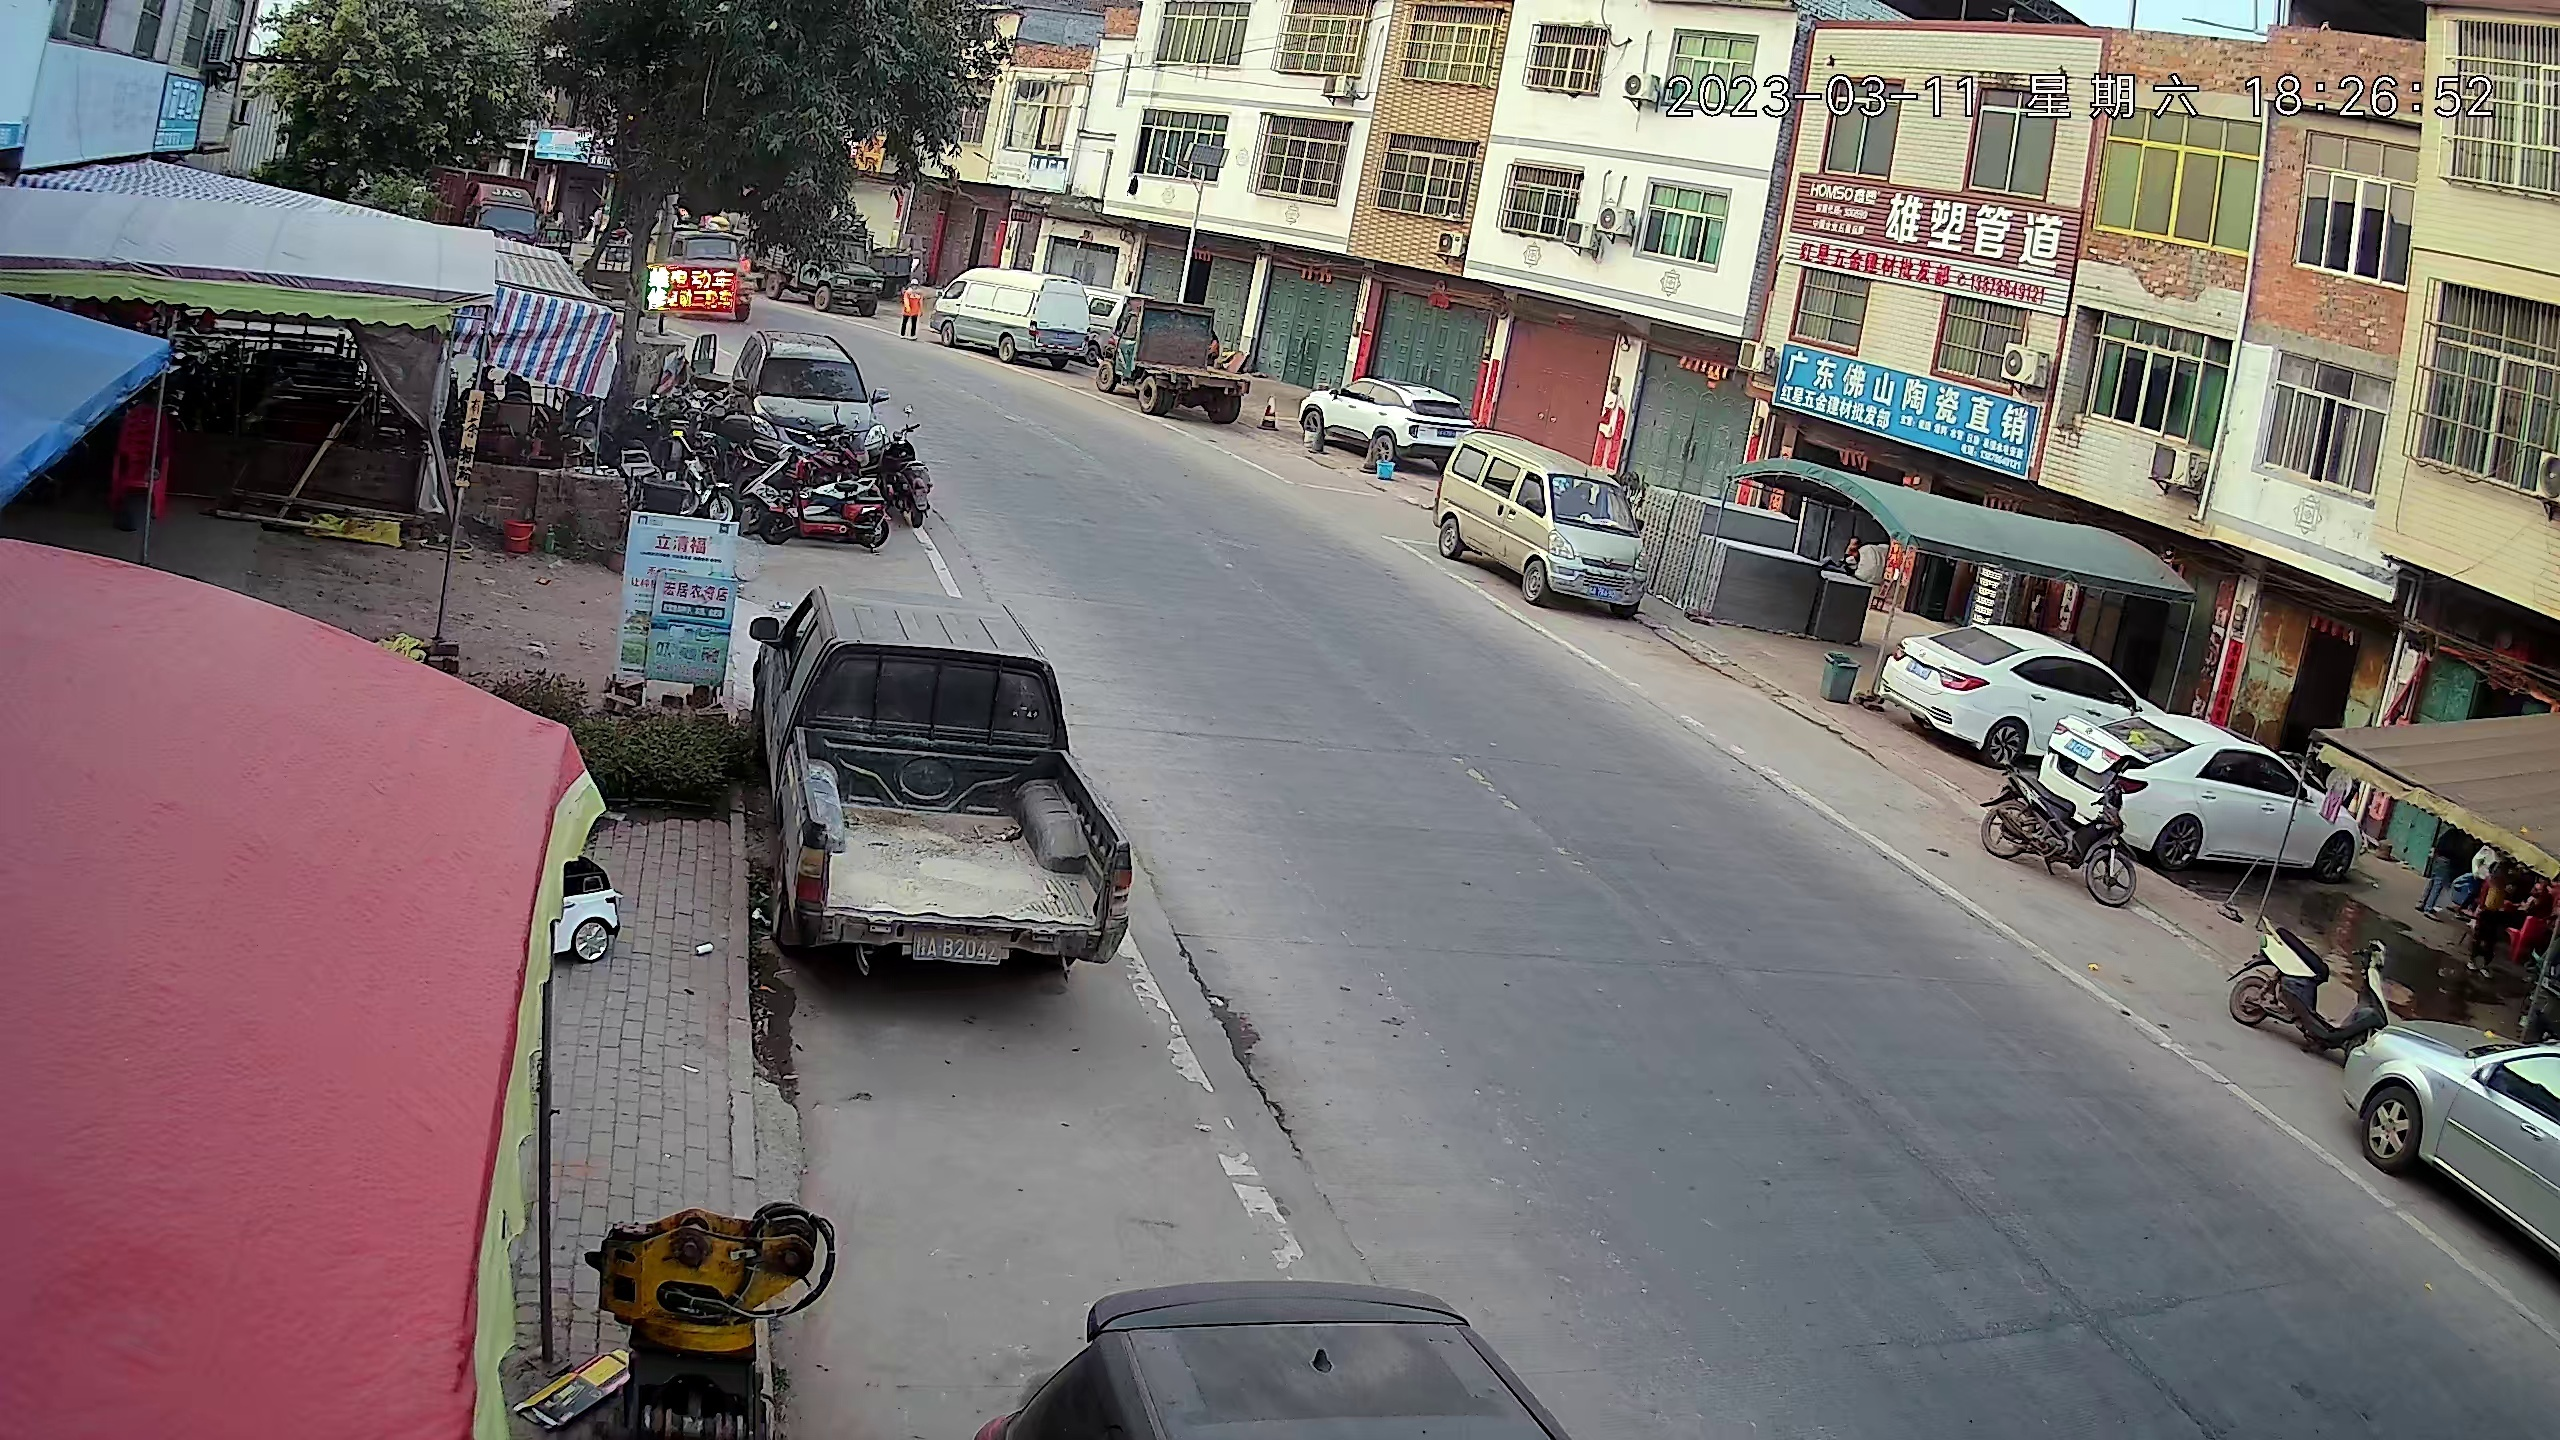motorcycle: (2237, 913, 2390, 1054), (1987, 769, 2140, 907), (760, 454, 890, 557), (660, 403, 732, 525), (887, 430, 933, 529)
person: (894, 275, 923, 342)
pickup: (743, 588, 1134, 994)
sedan: (997, 1269, 1580, 1440), (2055, 699, 2360, 890), (2363, 1015, 2560, 1277), (1889, 622, 2142, 750)
suv: (1303, 369, 1457, 462), (738, 324, 864, 433)
tricycle: (1103, 294, 1243, 423), (790, 237, 877, 322)
truck: (933, 264, 1088, 368), (440, 167, 537, 239)
van: (1437, 429, 1655, 610)
